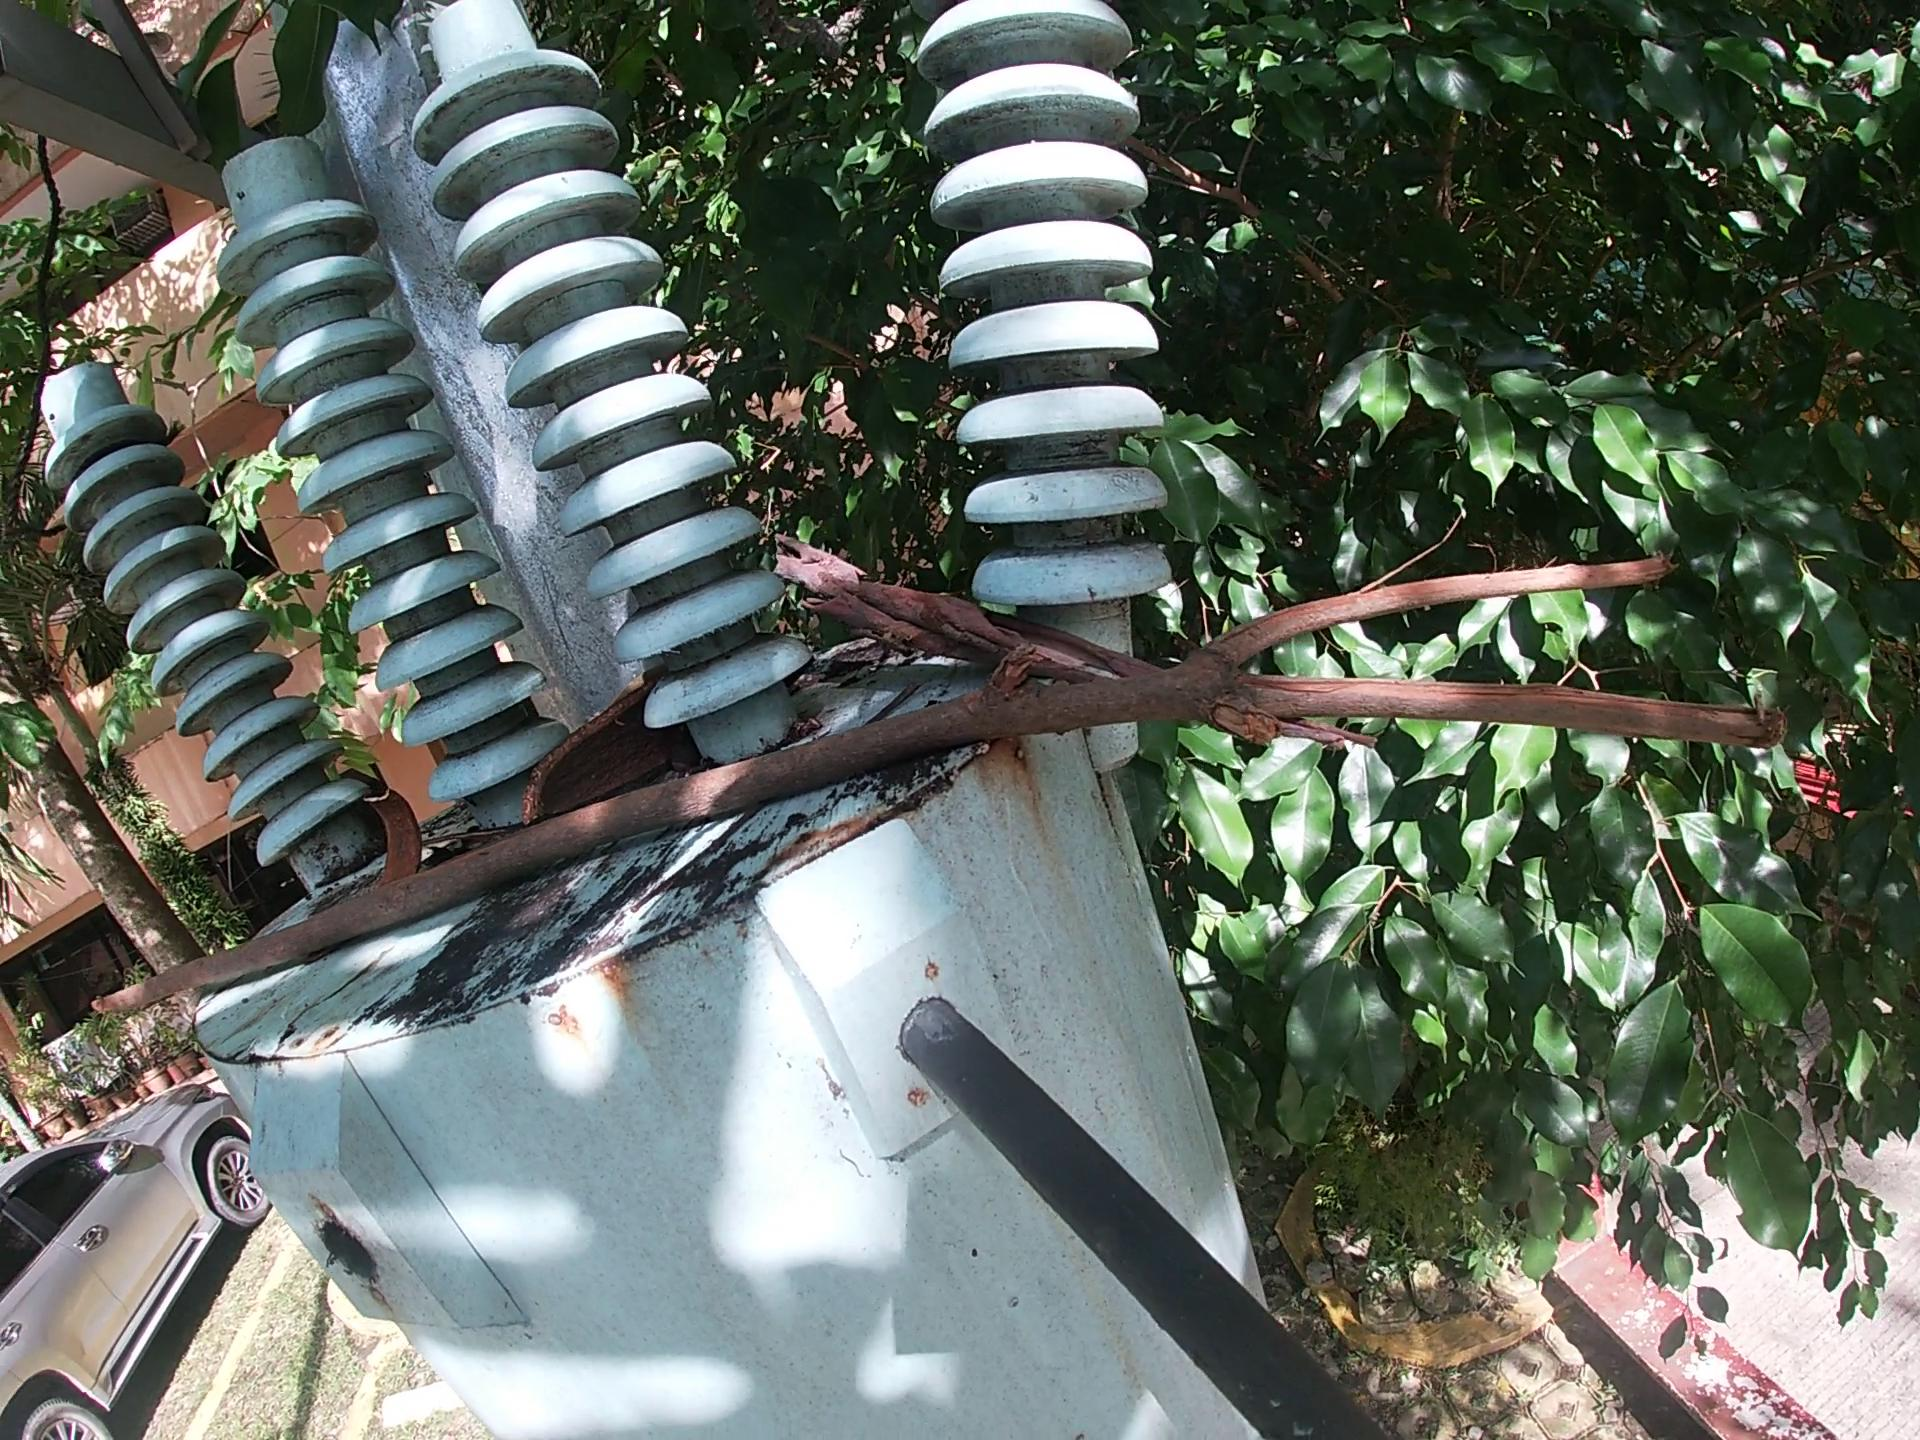mahogany fruit: (516, 664, 677, 832), (358, 787, 428, 885)
tree branch: (83, 538, 1798, 1030), (768, 526, 1386, 764)
